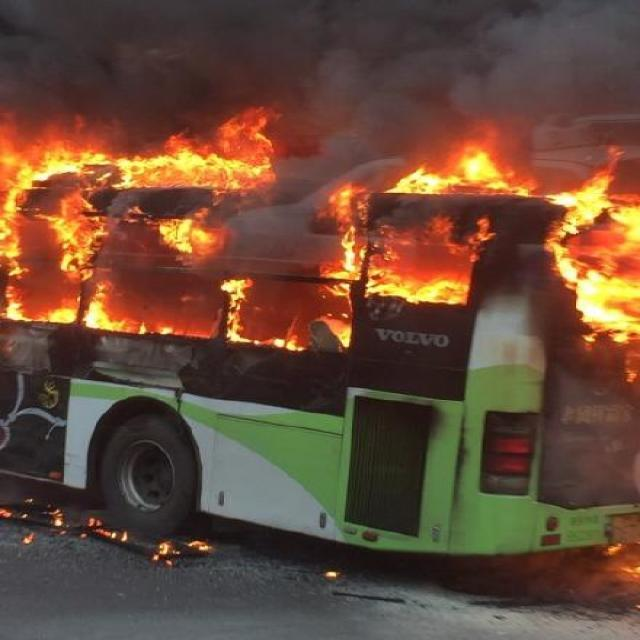Fire: (0, 110, 281, 336), (547, 164, 640, 338), (392, 147, 531, 197), (324, 187, 366, 285), (372, 268, 462, 303)
